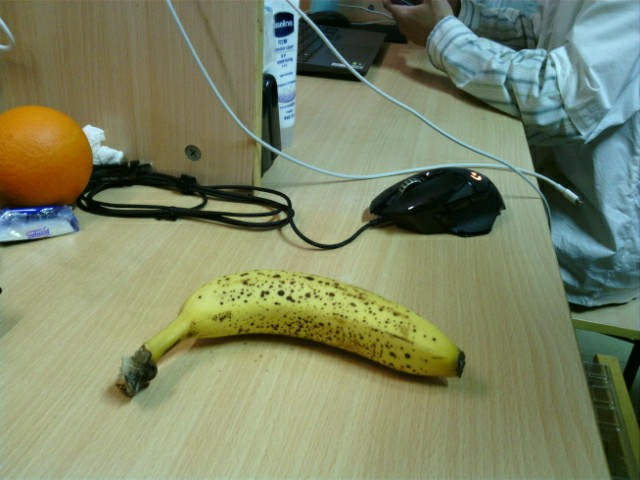normal_banana: (118, 268, 465, 399)
normal_orange: (3, 106, 94, 205)
